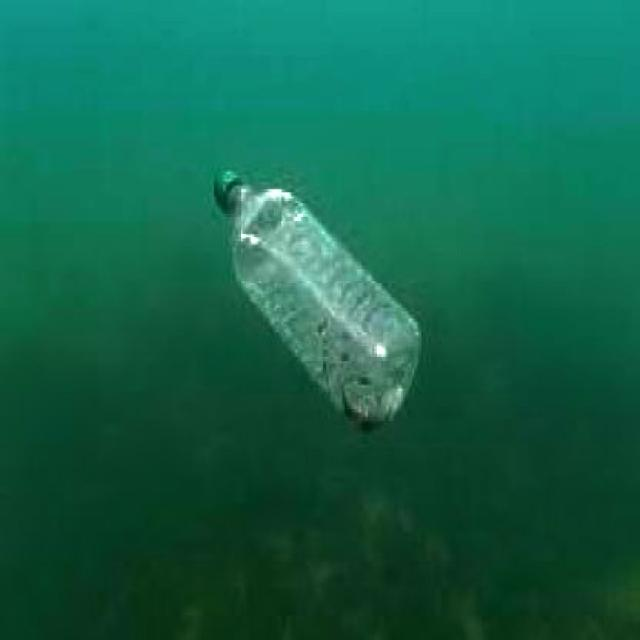pbottle: (205, 143, 426, 437)
